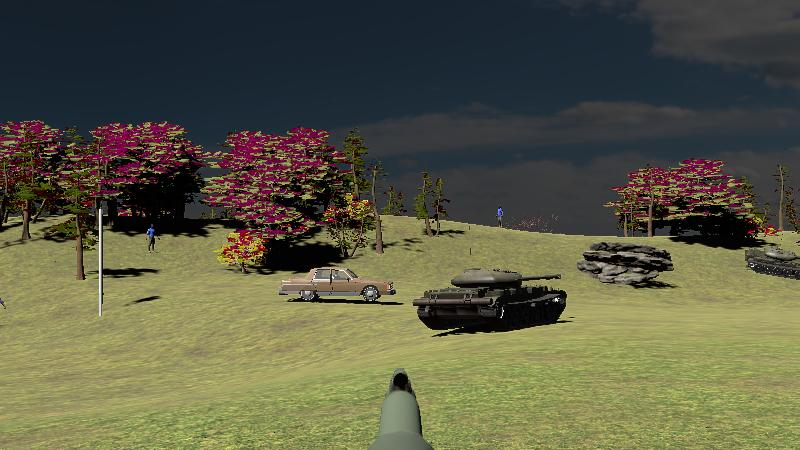Human: (0, 280, 7, 347)
Tank: (412, 267, 568, 333), (744, 246, 800, 280)
car: (278, 266, 396, 303)
